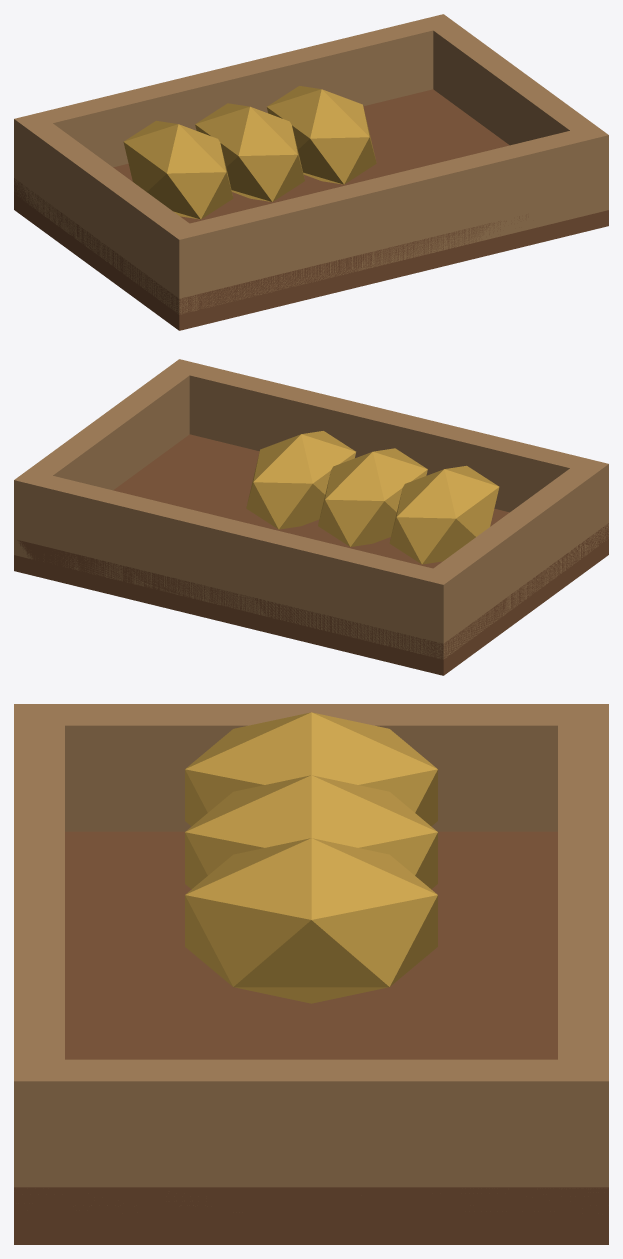
The model's file is set_croissant_tray.glb.
The picture shows the model from 3 angles, top to bottom: view 1: azimuth 30°, elevation 25°; view 2: azimuth 150°, elevation 25°; view 3: azimuth 270°, elevation 25°; orthographic projection. The views are drawn at different scales.
Parts seen in each view (by area): view 1: set_croissant_tray; view 2: set_croissant_tray; view 3: set_croissant_tray.
Boxes of the visible parts, x1,y1,x2,y2 form: set_croissant_tray: (14,14,608,330); set_croissant_tray: (14,359,608,675); set_croissant_tray: (14,704,608,1244).
Size of the model in its own units: 0.42 by 0.118 by 0.28.
